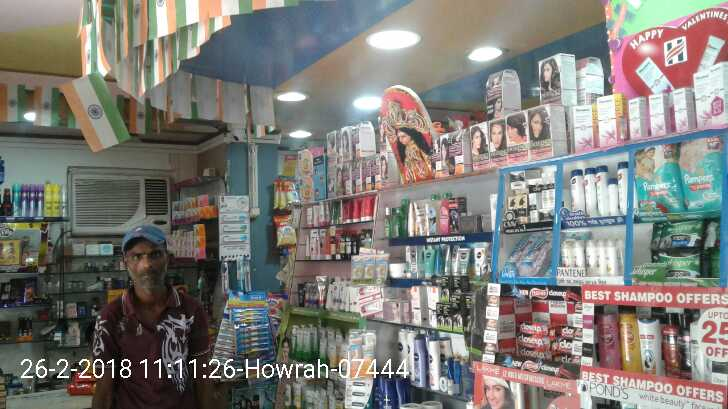venus: (524, 237, 553, 277), (508, 234, 524, 277)
